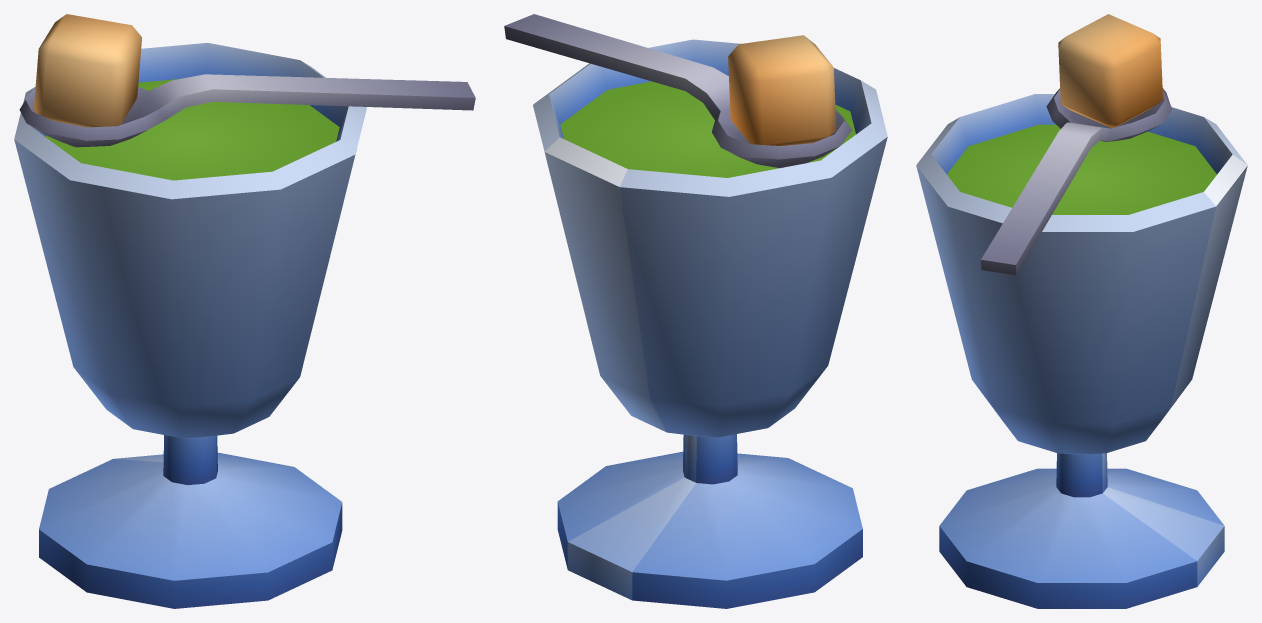
The model's file is m_Absinthe01.fbx.
3 views of the same model, side by side, from view 1: azimuth 30°, elevation 25°; view 2: azimuth 150°, elevation 25°; view 3: azimuth 270°, elevation 25° (orthographic). The views are drawn at different scales.
Parts seen in each view (by area): view 1: m_Absinthe01; view 2: m_Absinthe01; view 3: m_Absinthe01.
Part boxes in pixels (x1,y1,x2,y2): m_Absinthe01: (14, 14, 475, 608); m_Absinthe01: (504, 14, 887, 608); m_Absinthe01: (916, 14, 1247, 608).
Size of the model in its own units: 14.5 by 18.62 by 11.63.
